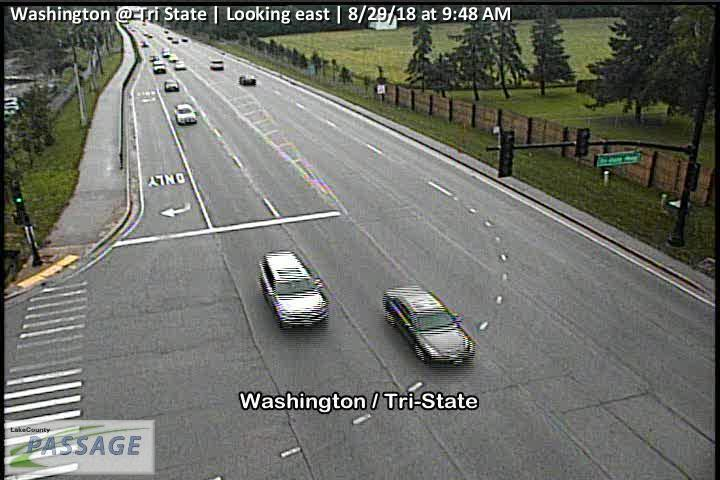SUV: (257, 249, 330, 335), (151, 60, 167, 74)
Sedan: (382, 284, 478, 370), (174, 103, 198, 125), (238, 73, 258, 86), (207, 58, 224, 71), (163, 78, 179, 91), (173, 60, 186, 70), (168, 53, 178, 61), (162, 47, 170, 56)
